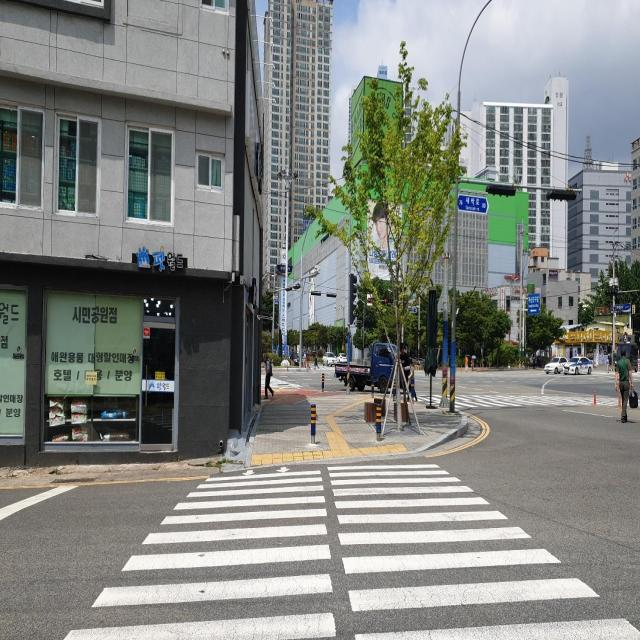횡단보도: (62, 460, 640, 640), (414, 392, 640, 409)
